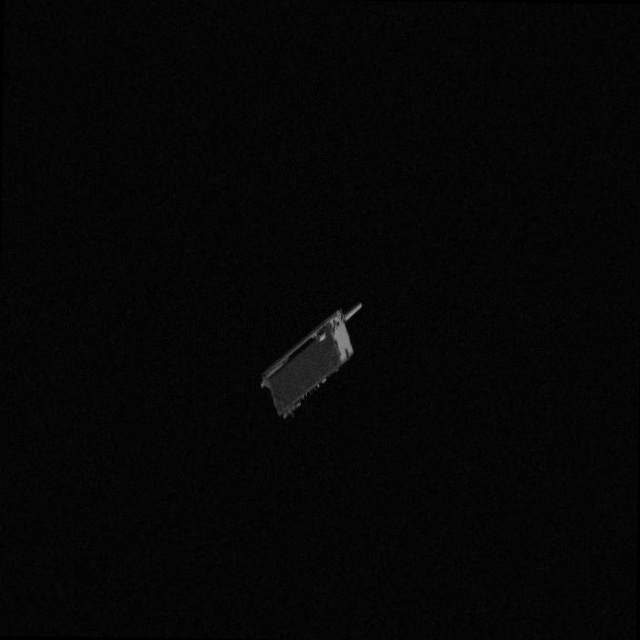satellite: (243, 291, 370, 419)
